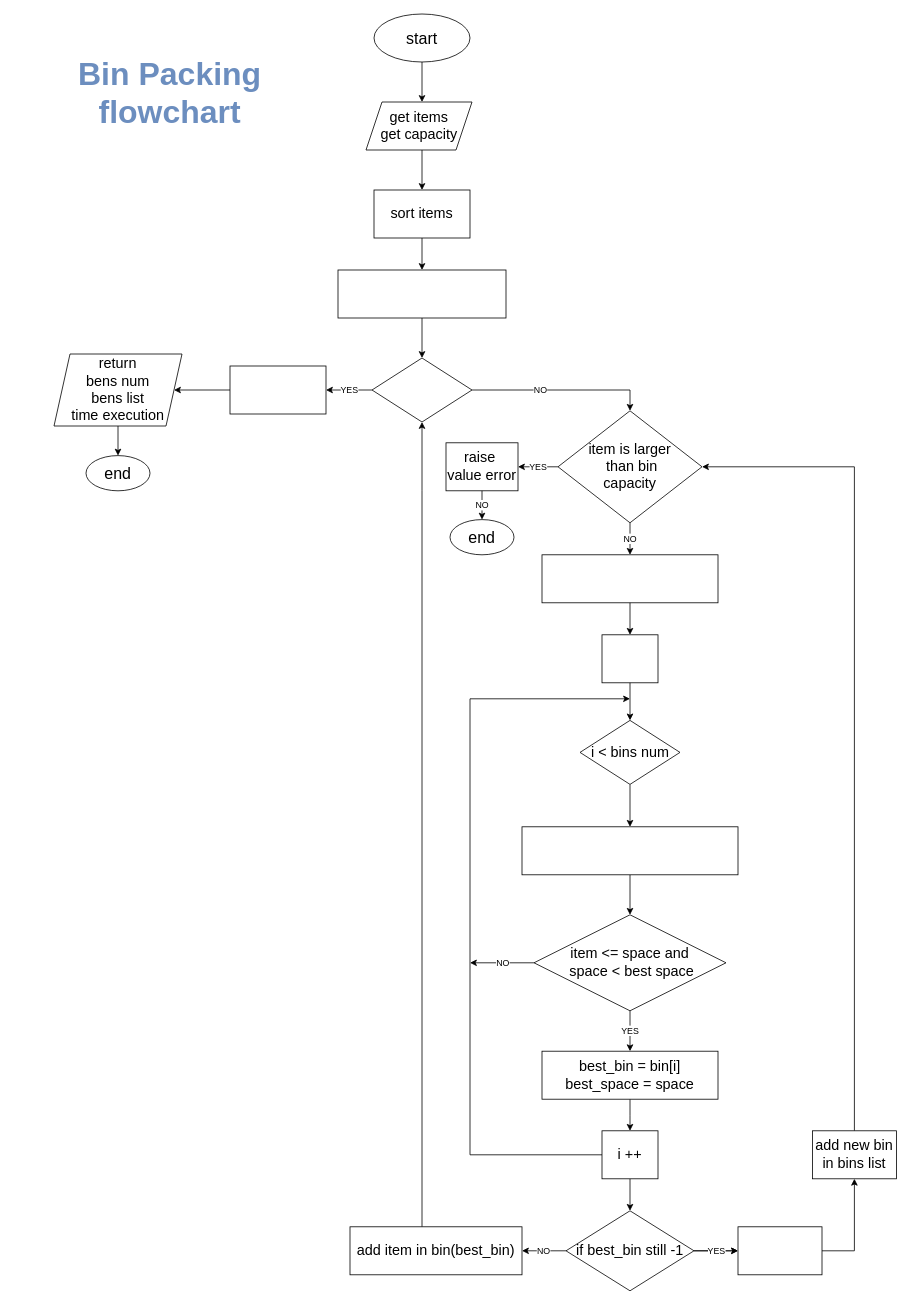
Image size: 910x1305. Some labels were removed from this diagram. The centre of each missing label's shape, as x and y in pixels:
best_bin = -1 best_space = capacity +1: the point at 629,578
end timer: the point at 277,389
i = 0: the point at 629,658
if no items: the point at 421,389
initialize bins list and start timer: the point at 421,293
pop item: the point at 779,1250
space = capacity - space in bin[i]: the point at 629,850
